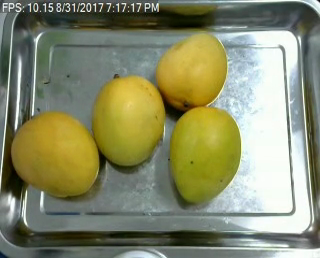Mango: (10, 113, 100, 198), (169, 106, 241, 203), (90, 74, 165, 167), (155, 34, 227, 111)
